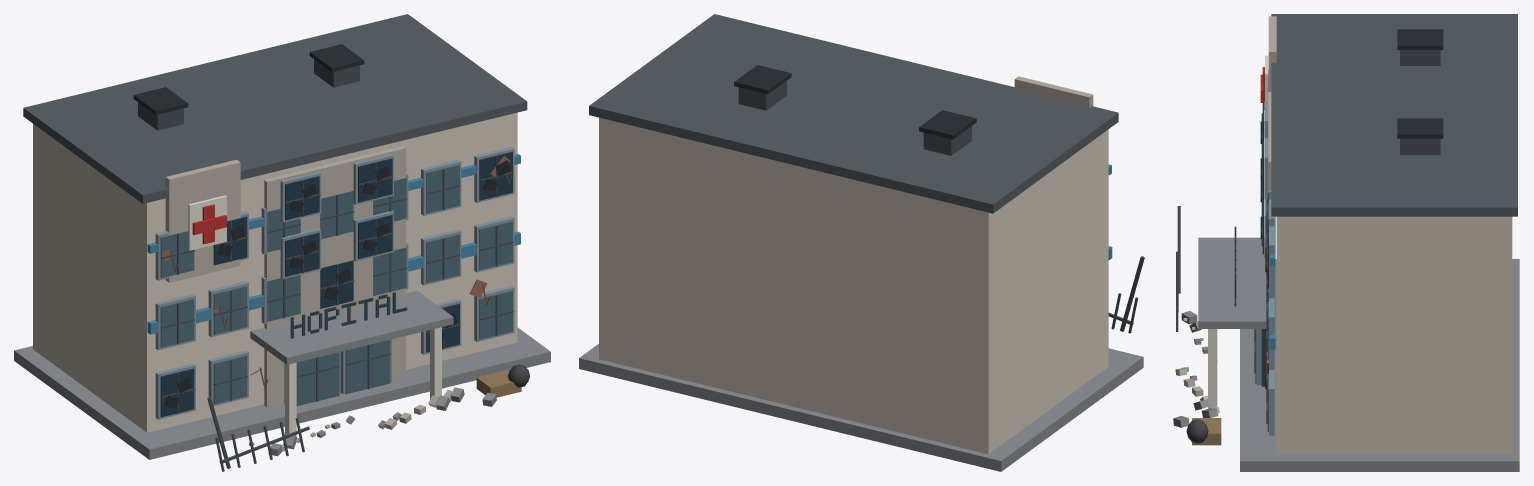
File: hospital-delabre.glb
3 renders of one model, left to right at view 1: azimuth 30°, elevation 25°; view 2: azimuth 150°, elevation 25°; view 3: azimuth 270°, elevation 25°, orthographic. The views are drawn at different scales.
Visible parts, largest first — view 1: hopital_delabre_plaster, hopital_delabre_roof, hopital_delabre_concrete, hopital_delabre_windowLite, hopital_delabre_plasterDark, hopital_delabre_frame, hopital_delabre_window, hopital_delabre_metal, hopital_delabre_dark, hopital_delabre_bright, hopital_delabre_hospitalBlue, hopital_delabre_navy (+2 smaller); view 2: hopital_delabre_plaster, hopital_delabre_roof, hopital_delabre_concrete, hopital_delabre_metal, hopital_delabre_dark, hopital_delabre_plasterDark; view 3: hopital_delabre_plaster, hopital_delabre_roof, hopital_delabre_concrete, hopital_delabre_metal, hopital_delabre_dark, hopital_delabre_frame, hopital_delabre_plasterDark, hopital_delabre_bright, hopital_delabre_navy, hopital_delabre_cardboard, hopital_delabre_windowLite, hopital_delabre_trash (+2 smaller).
Part boxes in pixels (x1,y1,x2,y2): hopital_delabre_plaster: [33, 112, 517, 432]; hopital_delabre_roof: [23, 14, 527, 203]; hopital_delabre_concrete: [14, 290, 550, 459]; hopital_delabre_windowLite: [160, 165, 512, 406]; hopital_delabre_plasterDark: [165, 146, 453, 451]; hopital_delabre_frame: [155, 146, 514, 419]; hopital_delabre_window: [160, 151, 512, 417]; hopital_delabre_metal: [138, 59, 513, 471]; hopital_delabre_dark: [133, 44, 510, 408]; hopital_delabre_bright: [188, 195, 441, 435]; hopital_delabre_hospitalBlue: [147, 154, 520, 334]; hopital_delabre_navy: [284, 292, 407, 403]; hopital_delabre_plaster: [599, 117, 1108, 454]; hopital_delabre_roof: [589, 14, 1118, 213]; hopital_delabre_concrete: [579, 344, 1143, 471]; hopital_delabre_metal: [738, 81, 1144, 333]; hopital_delabre_dark: [734, 65, 976, 139]; hopital_delabre_plasterDark: [1014, 76, 1093, 107]; hopital_delabre_plaster: [1276, 216, 1512, 453]; hopital_delabre_roof: [1271, 14, 1517, 216]; hopital_delabre_concrete: [1173, 237, 1519, 471]; hopital_delabre_metal: [1176, 50, 1440, 423]; hopital_delabre_dark: [1260, 29, 1443, 389]; hopital_delabre_frame: [1257, 101, 1274, 435]; hopital_delabre_plasterDark: [1175, 16, 1276, 413]; hopital_delabre_bright: [1208, 55, 1268, 408]; hopital_delabre_navy: [1234, 226, 1266, 386]; hopital_delabre_cardboard: [1192, 418, 1221, 445]; hopital_delabre_windowLite: [1255, 69, 1268, 431]; hopital_delabre_trash: [1186, 419, 1208, 443].
Size of the model in its own units: 13 by 8.51 by 9.41.
